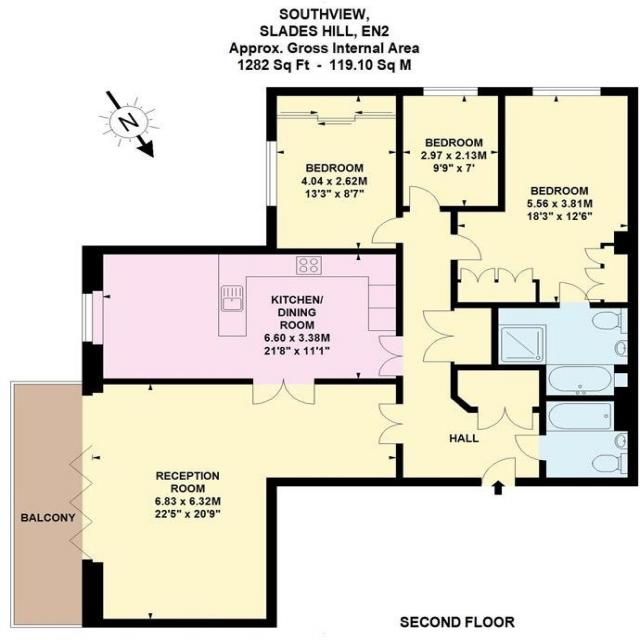DOOR: (511, 434, 548, 462), (450, 232, 484, 261), (557, 281, 592, 309), (371, 215, 404, 244), (406, 186, 442, 212)
DOUBLE DOOR: (420, 306, 456, 364), (249, 378, 317, 408), (375, 400, 404, 445), (375, 332, 404, 376)
FOLDING DOOR: (63, 393, 103, 563)
ROOM: (81, 377, 405, 628), (451, 86, 639, 309), (264, 87, 403, 255), (395, 86, 506, 212)
WINDOW: (81, 289, 105, 347), (264, 137, 279, 208), (528, 86, 603, 97), (420, 86, 480, 96)
